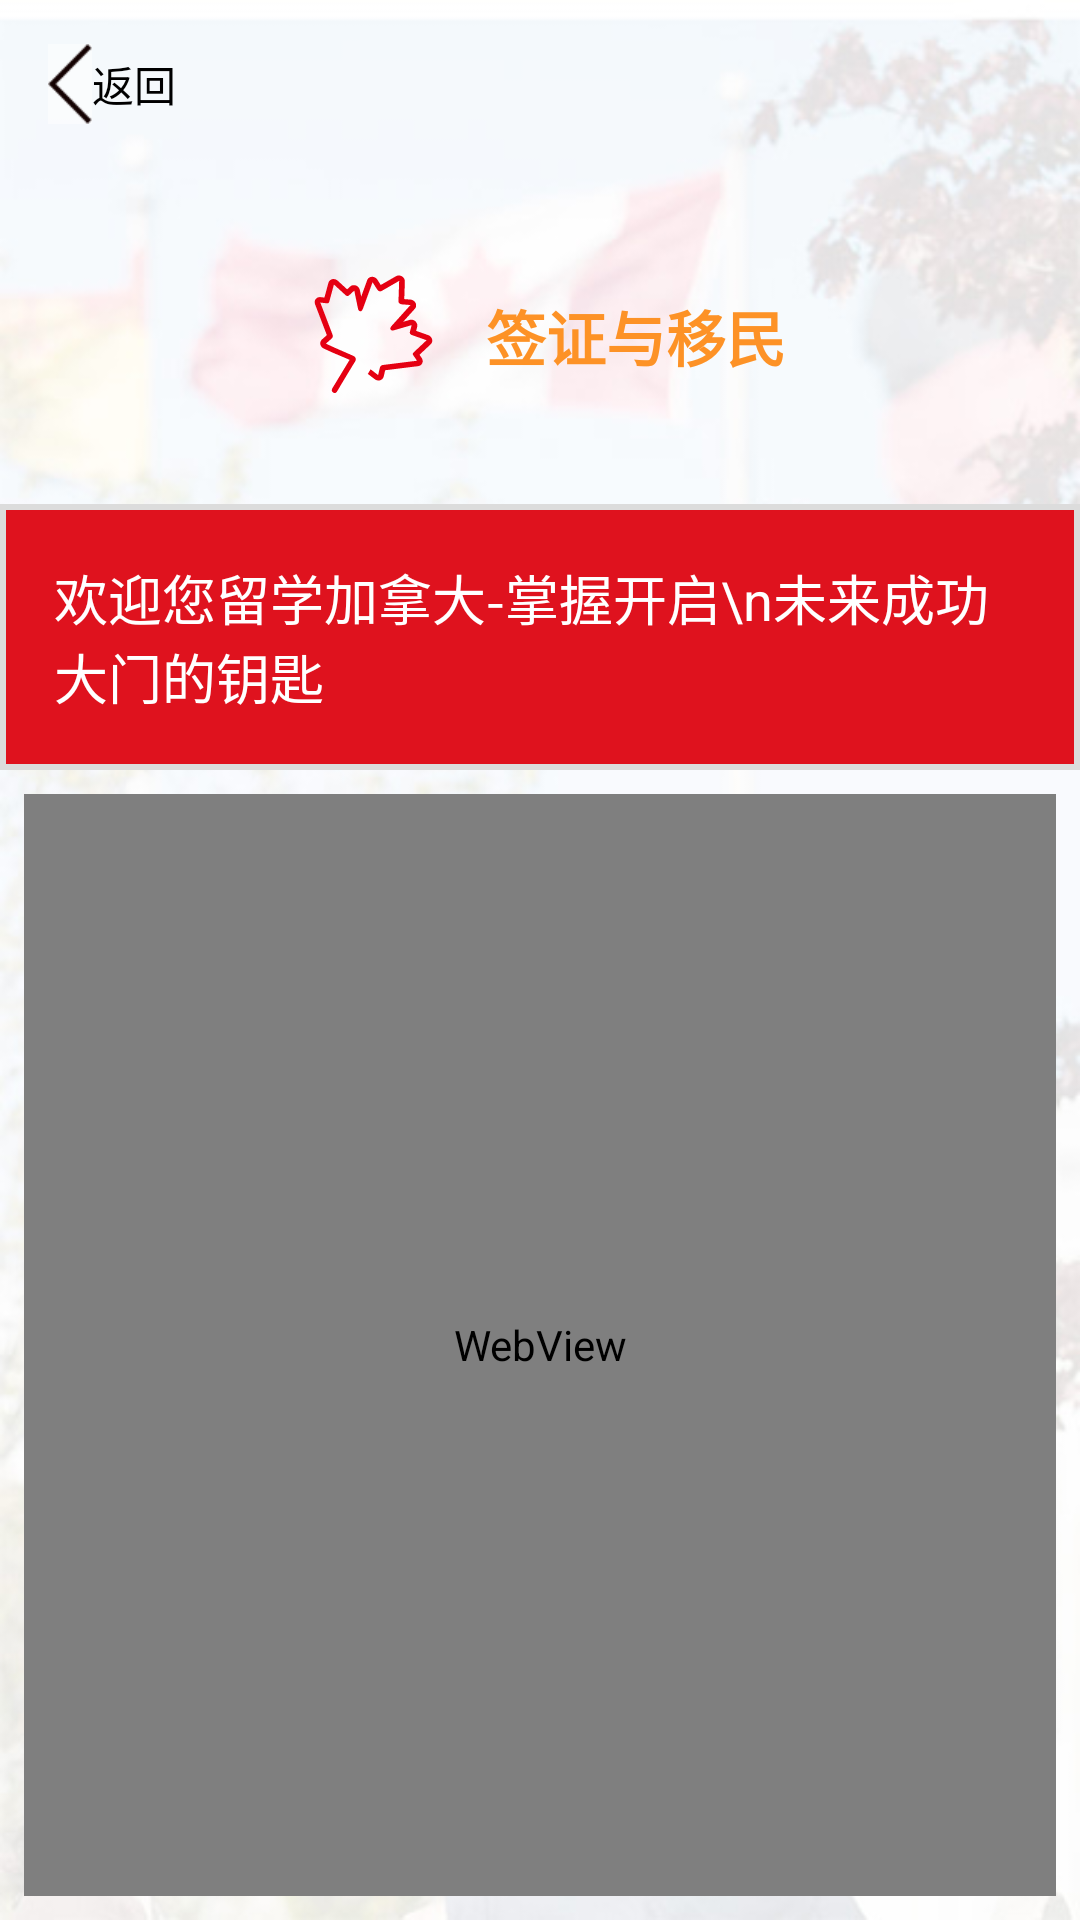

Screen size 1080 × 1920. Icon name, then its center in pixels as (x=x, y=y):
leaf: (x=373, y=334)
